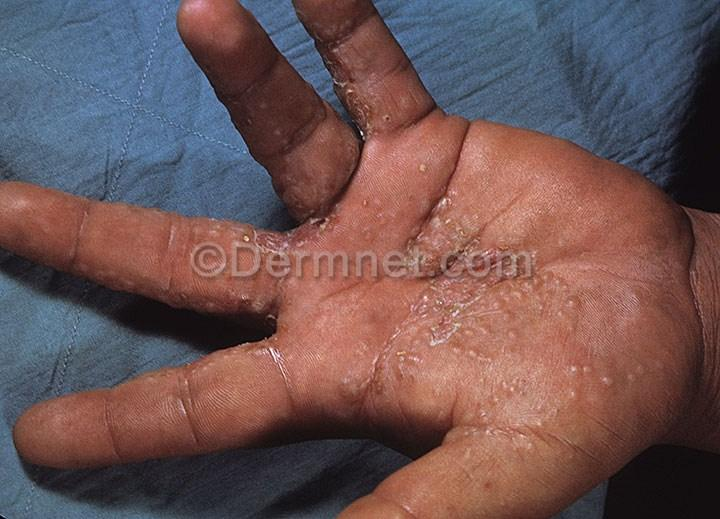Eczema: (389, 194, 528, 367), (323, 20, 372, 126), (563, 364, 656, 401), (243, 230, 318, 255), (569, 288, 592, 325)
